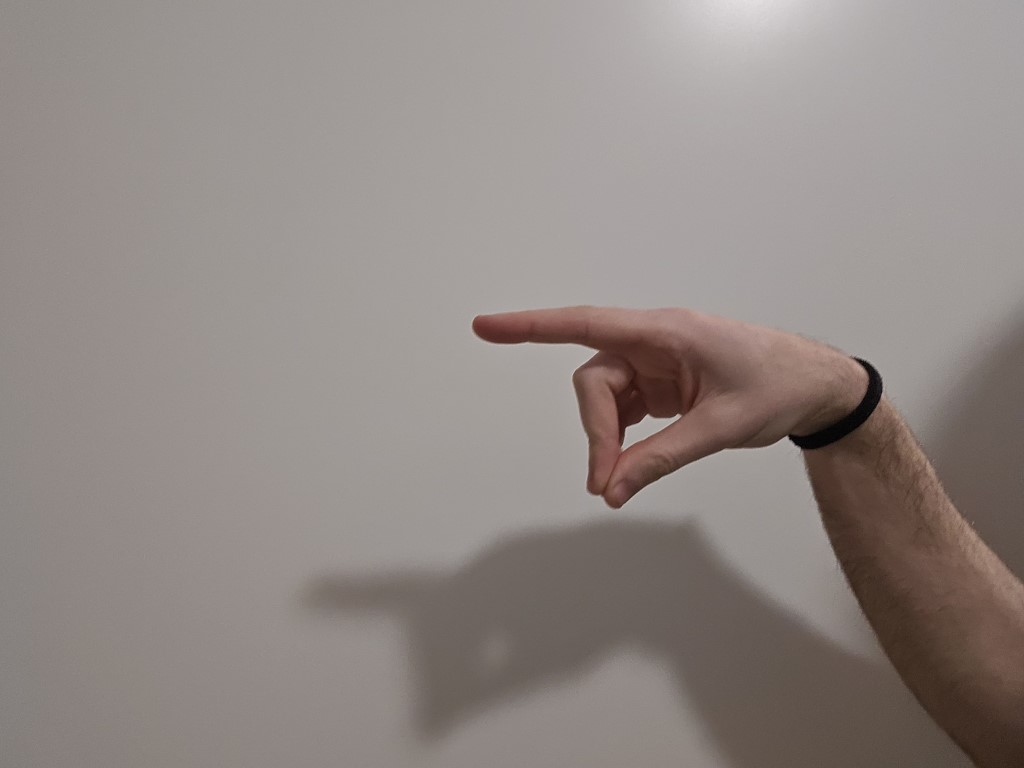p: (439, 253, 810, 529)
